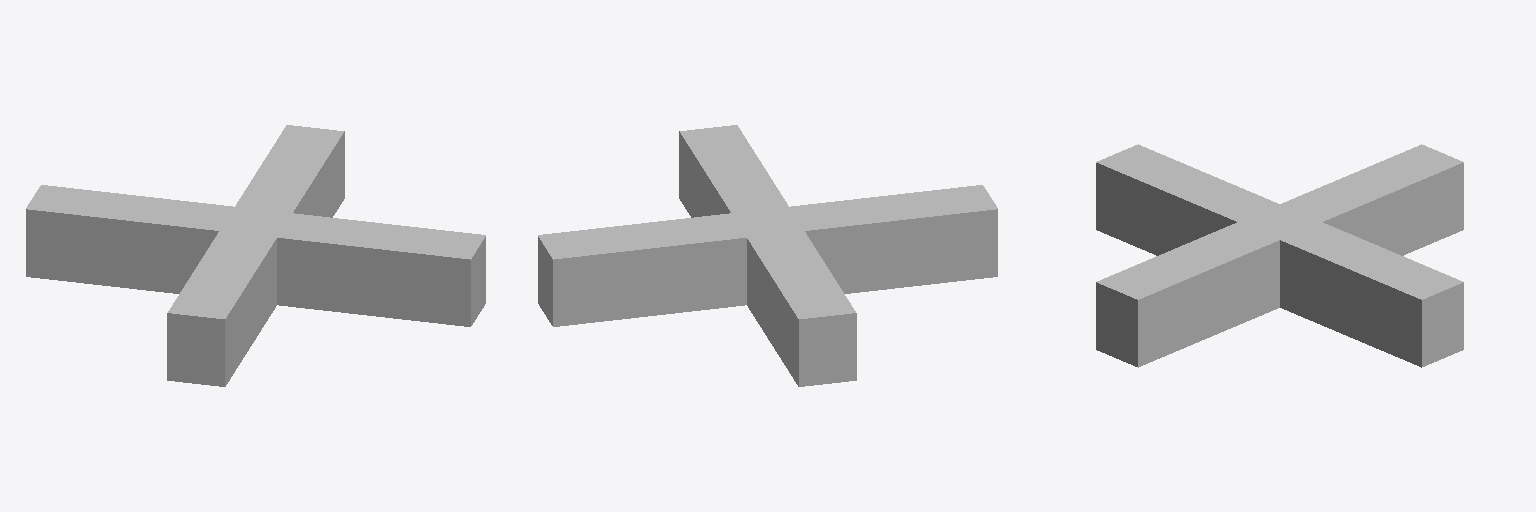
File: cross.obj
3 renders of one model, left to right at view 1: azimuth 30°, elevation 25°; view 2: azimuth 150°, elevation 25°; view 3: azimuth 270°, elevation 25°, orthographic.
Parts seen in each view (by area): view 1: Cube.001_Cube.002; view 2: Cube.001_Cube.002; view 3: Cube.001_Cube.002.
Part boxes in pixels (bbox=[...]): Cube.001_Cube.002: bbox=[26, 125, 485, 386]; Cube.001_Cube.002: bbox=[538, 125, 997, 386]; Cube.001_Cube.002: bbox=[1096, 144, 1463, 367].
Size of the model in its own units: 0.0963 by 0.0195 by 0.0963.